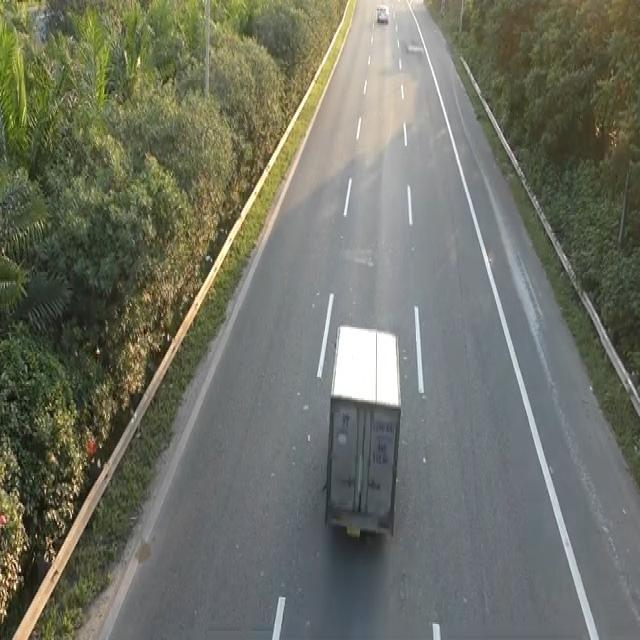minivan: (321, 318, 403, 542)
